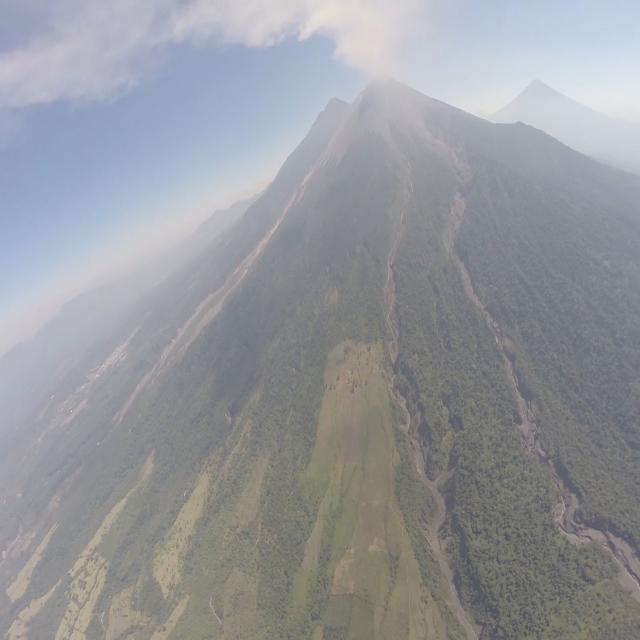Plume: (174, 0, 406, 83)
